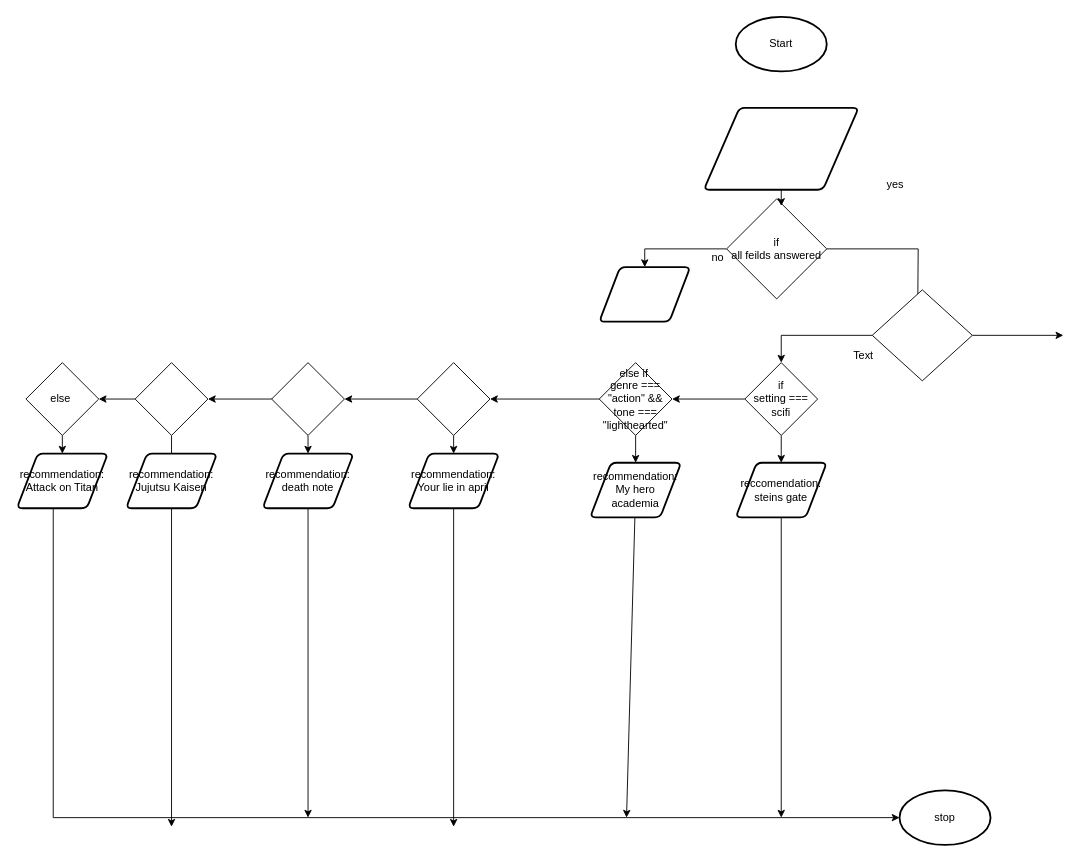
The diagram is 1087 pixels wide and 861 high, and some of its shapes have lost their labels. The centre of each missing label's shape, as x and y in pixels:
else if genre === "fantasy" && setting === "supernatural": point 171,398
else if genre === "mystery" && story === "serialized"): point 307,398
else if genre === "romance" && tone === "emotional": point 453,398
if entertainment type === anime: point 921,335
Input: Entertainment Type, Genre, Length, Language, Setting, Tone, Story Type: point 781,148
output please answer all questions: point 644,294
